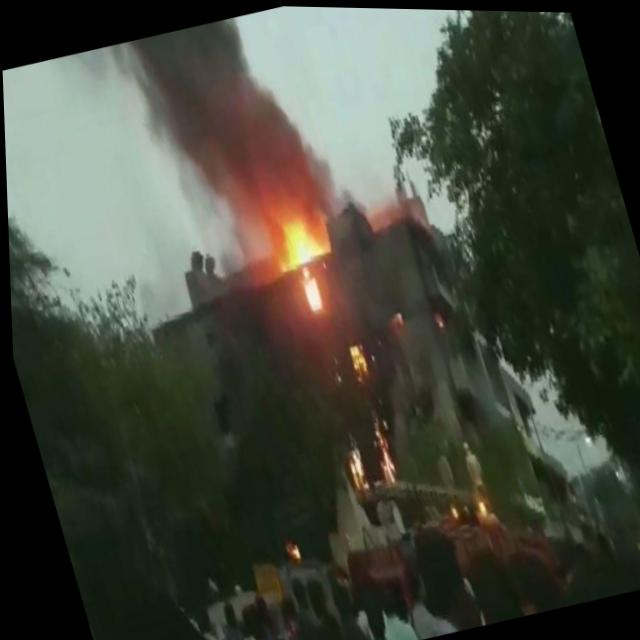fire: (257, 201, 349, 325), (361, 414, 398, 486), (333, 429, 371, 496), (338, 331, 371, 386), (276, 531, 299, 562), (385, 300, 404, 331), (429, 306, 444, 329)
